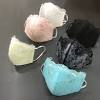cloth_mask: (9, 31, 45, 70), (74, 18, 100, 53)
